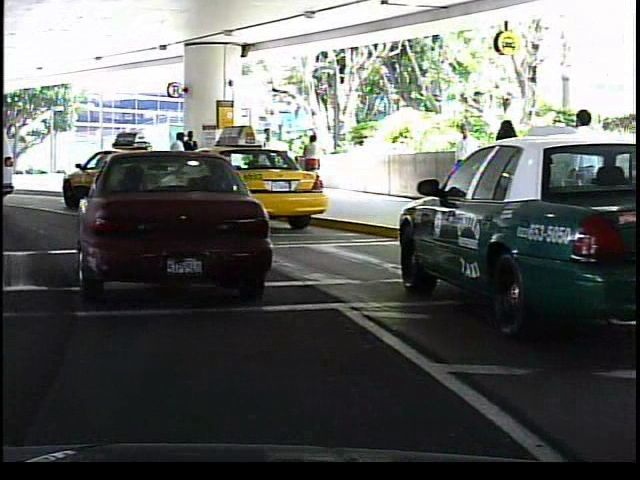person: (486, 109, 536, 246), (559, 100, 603, 241), (448, 116, 482, 213), (254, 123, 281, 191), (298, 130, 323, 190), (166, 130, 190, 192), (183, 128, 202, 191)
